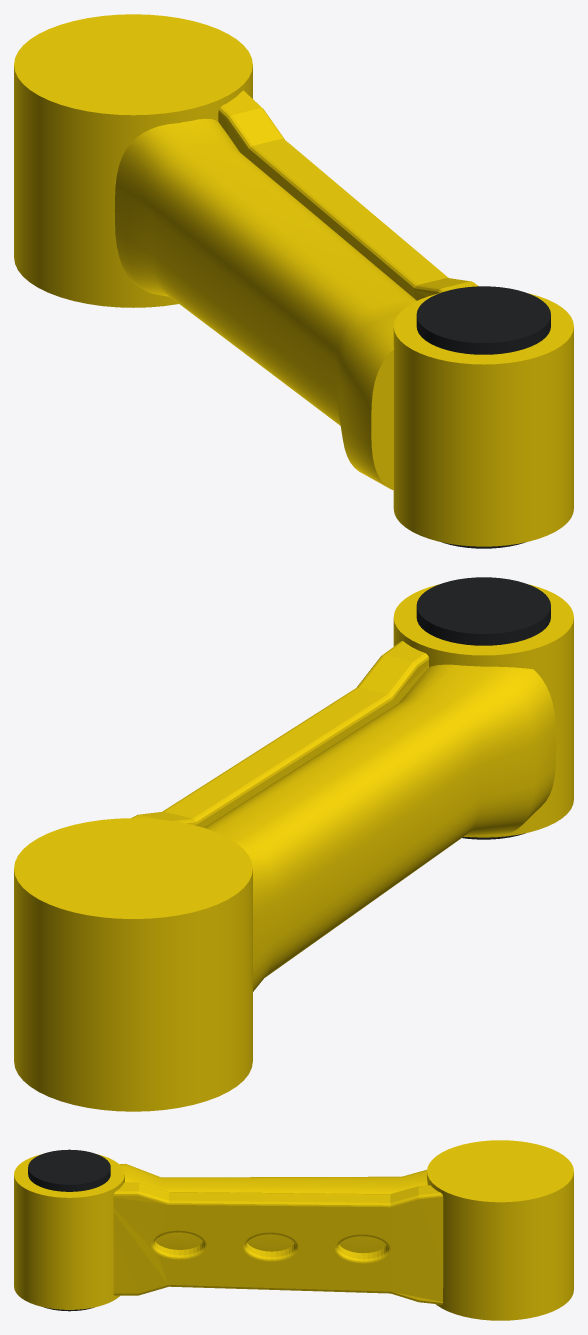
3 views of the same model, one above another, from view 1: azimuth 30°, elevation 25°; view 2: azimuth 150°, elevation 25°; view 3: azimuth 270°, elevation 25° (orthographic). The views are drawn at different scales.
Visible parts, largest first — view 1: lower_arm_back, j2_hub, elbow_boss, lower_arm_front_pocket_wall, elbow_bearing_seal_1; view 2: j2_hub, lower_arm_back, lower_arm_front_pocket_wall, elbow_boss, elbow_bearing_seal_1; view 3: lower_arm_front_pocket_wall, j2_hub, elbow_boss, lower_arm_back, elbow_bearing_seal_1.
Part boxes in pixels (left/top/right/bottom): lower_arm_back: left=114, top=118, right=416, bottom=490; j2_hub: left=14, top=14, right=252, bottom=307; elbow_boss: left=393, top=293, right=573, bottom=546; lower_arm_front_pocket_wall: left=218, top=90, right=478, bottom=300; elbow_bearing_seal_1: left=416, top=286, right=550, bottom=354; j2_hub: left=14, top=818, right=252, bottom=1111; lower_arm_back: left=204, top=664, right=556, bottom=991; lower_arm_front_pocket_wall: left=131, top=641, right=428, bottom=827; elbow_boss: left=393, top=584, right=573, bottom=837; elbow_bearing_seal_1: left=416, top=577, right=550, bottom=645; lower_arm_front_pocket_wall: left=113, top=1182, right=443, bottom=1304; j2_hub: left=427, top=1140, right=573, bottom=1320; elbow_boss: left=14, top=1154, right=124, bottom=1309; lower_arm_back: left=119, top=1163, right=427, bottom=1253; elbow_bearing_seal_1: left=28, top=1149, right=110, bottom=1191.
Bounding box in the file's own units: 0.416 × 0.395 × 1.58.
